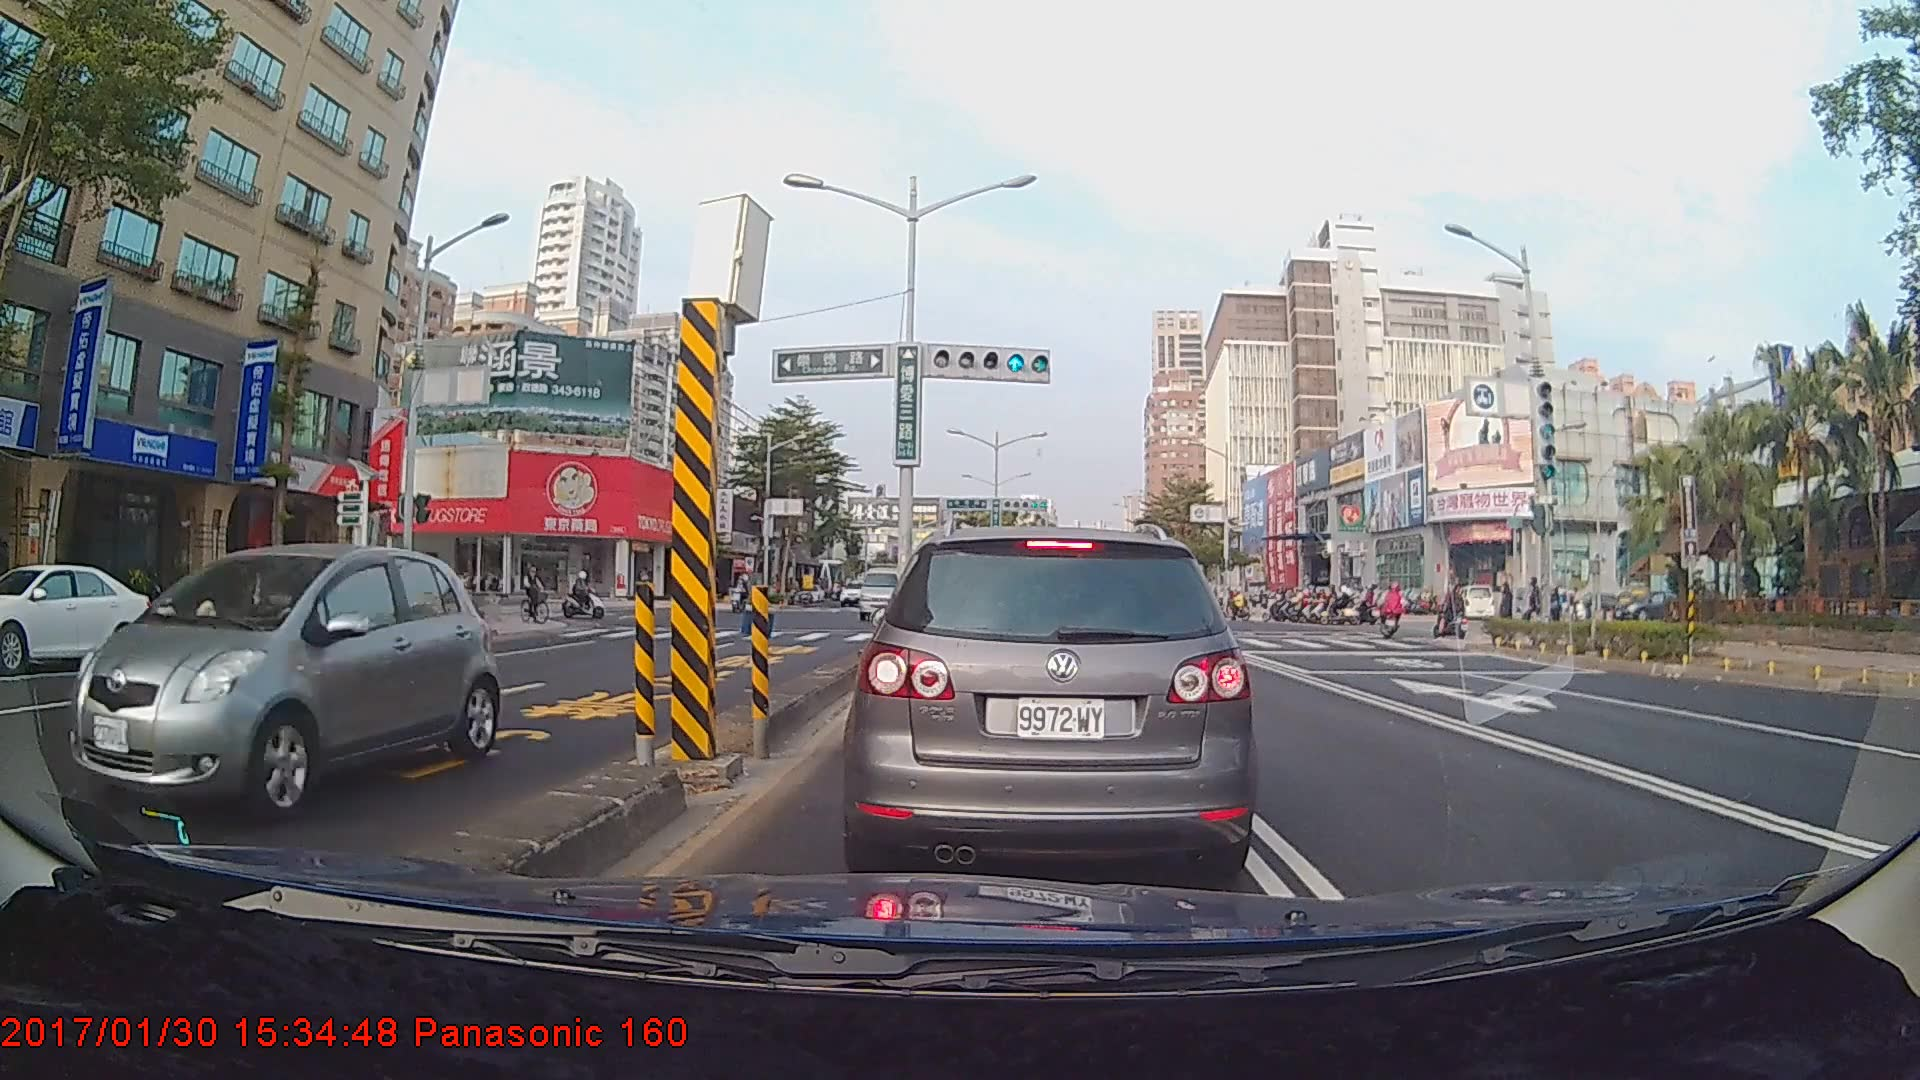pedestrian: (1495, 579, 1522, 637)
rider: (1436, 582, 1473, 646), (1382, 580, 1413, 640)
vehicle: (852, 521, 1251, 885), (67, 537, 500, 824), (0, 561, 158, 671), (855, 557, 912, 620)
